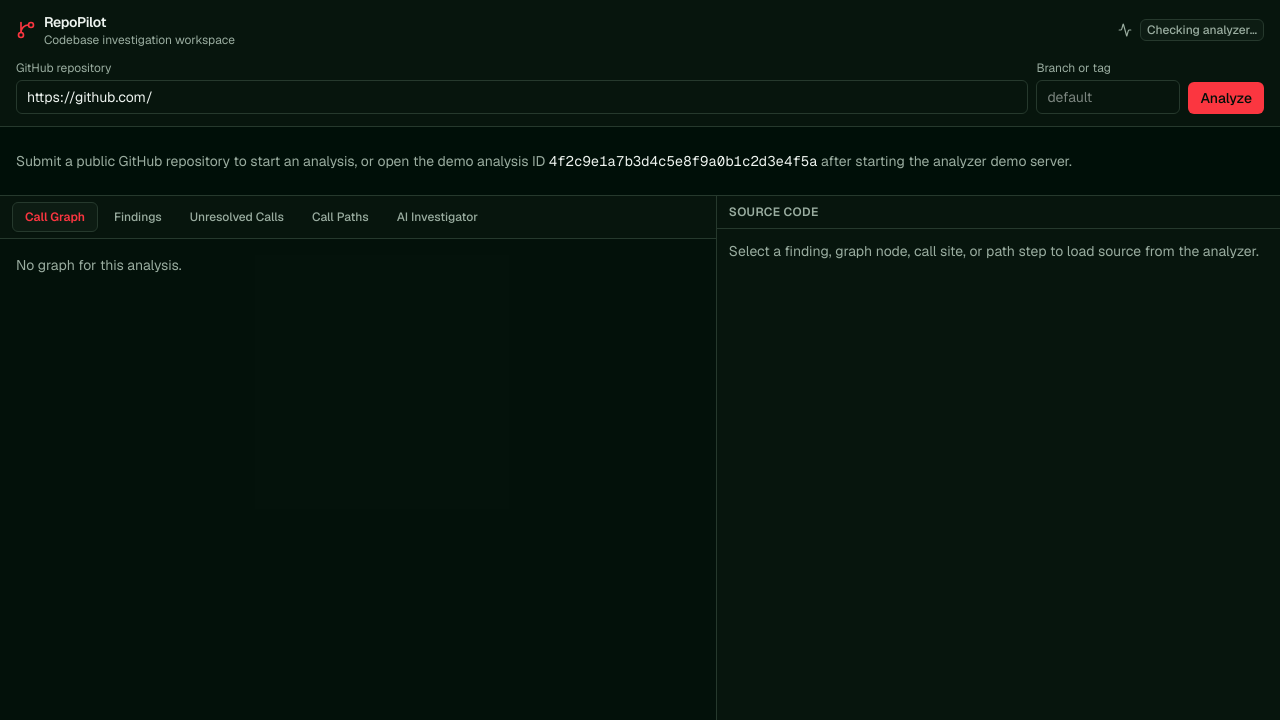
Test case: RepoPilot Investigation Workspace › handles repository submission and renders failed analysis error banner
The image size is (1280, 720).
Replace the text in the field with placeholder "https://github.com/owner/repo" with "https://github.com/bad/repo" at point(522, 97), box [16,80,1028,114]
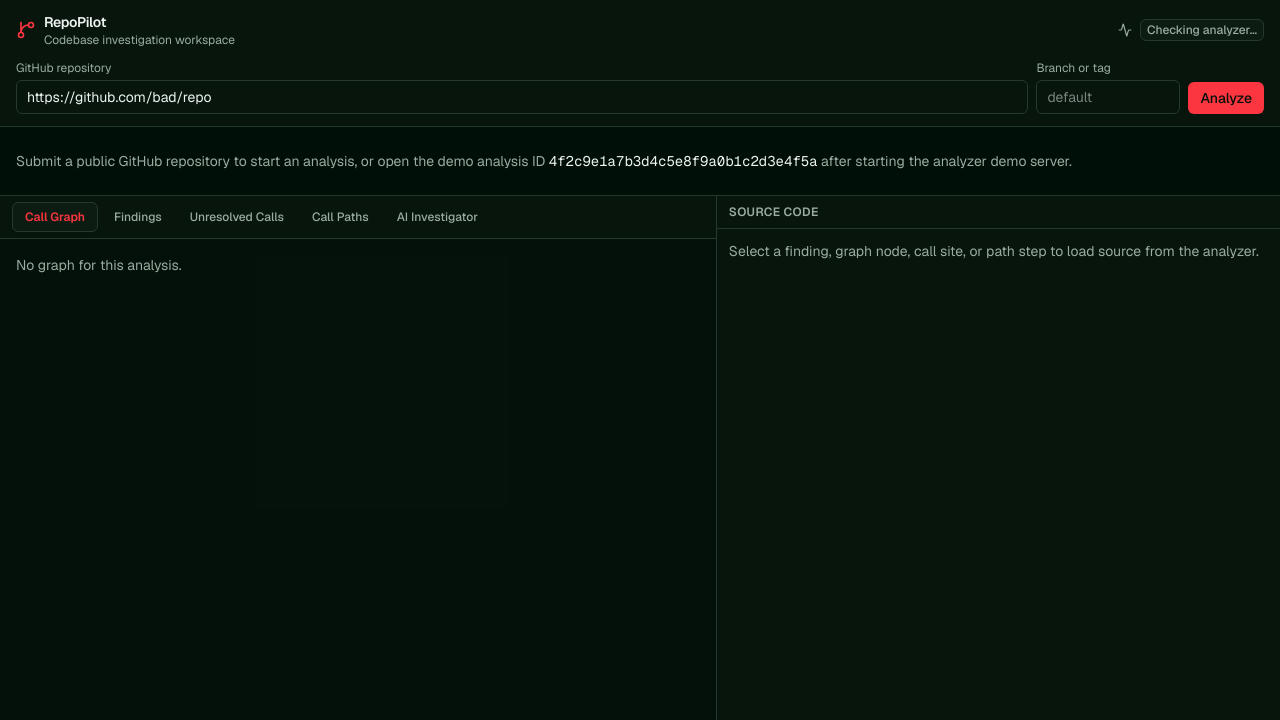
Click the button "Analyze" at point(1226, 98), box [1188,82,1264,114]
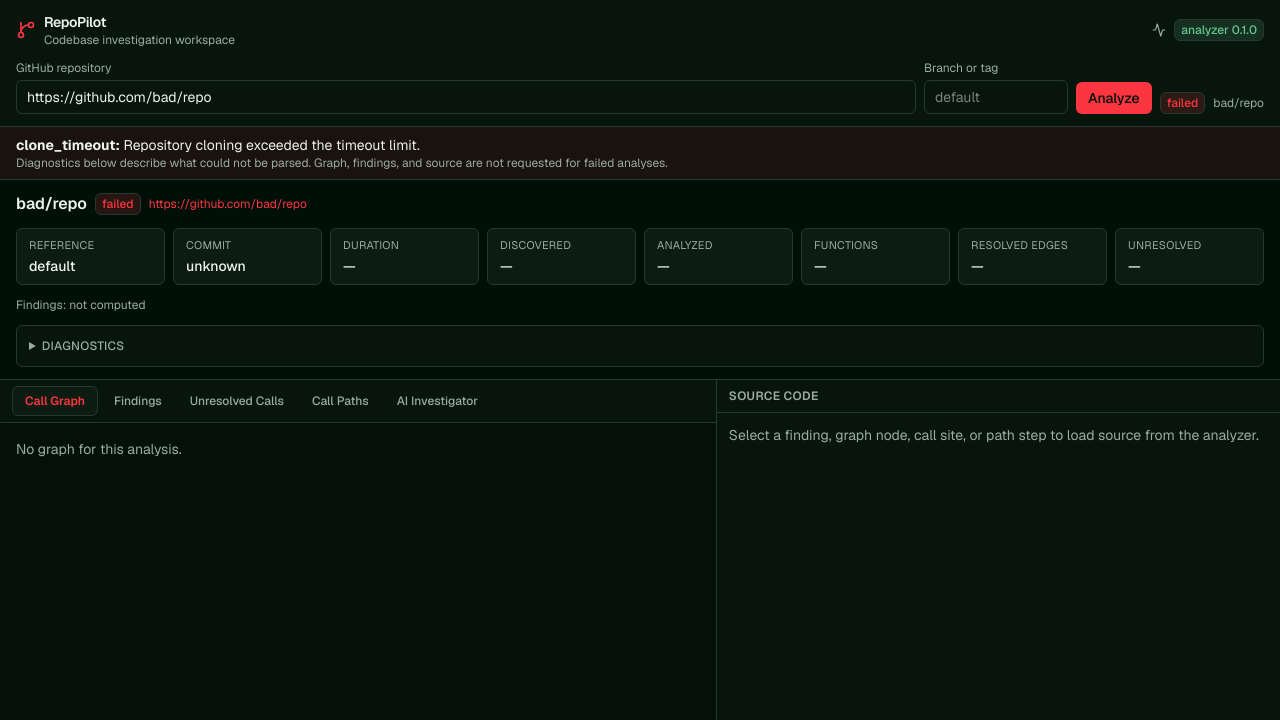
Expected: the text "clone_timeout:" is shown, [16,136,120,154]
Expected: the text "Repository cloning exceeded the timeout limit." is shown, [123,136,420,154]
